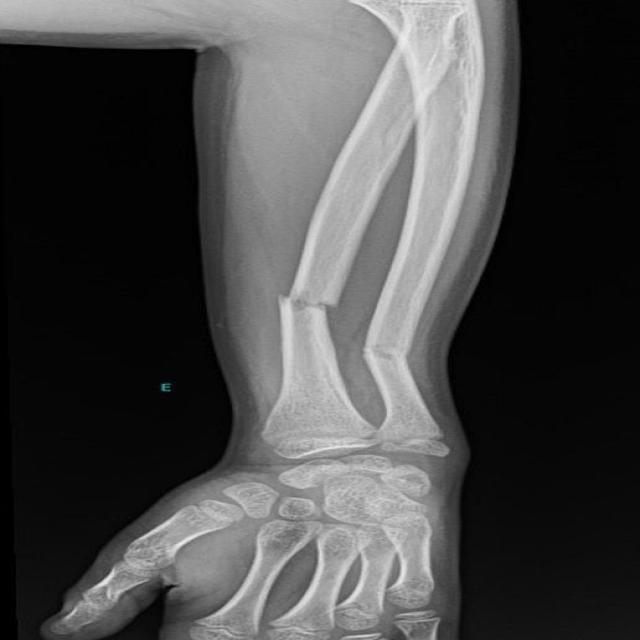fractured: (224, 266, 435, 372)
